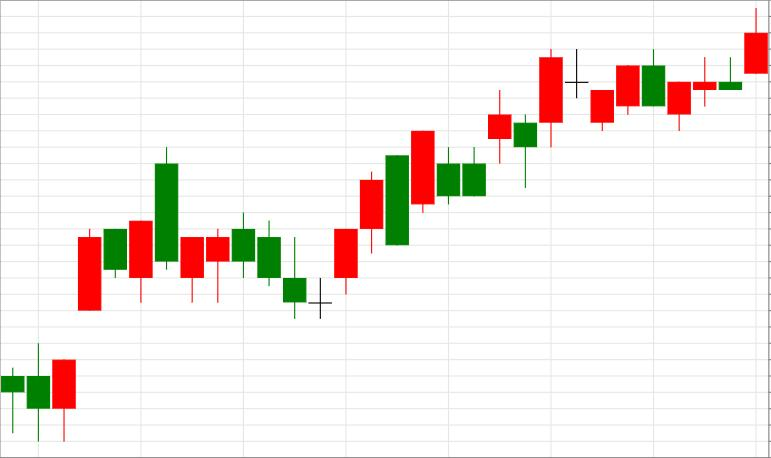bearish_engulfing_fall: (308, 156, 409, 319)
morning_star_rise: (154, 147, 358, 319)
